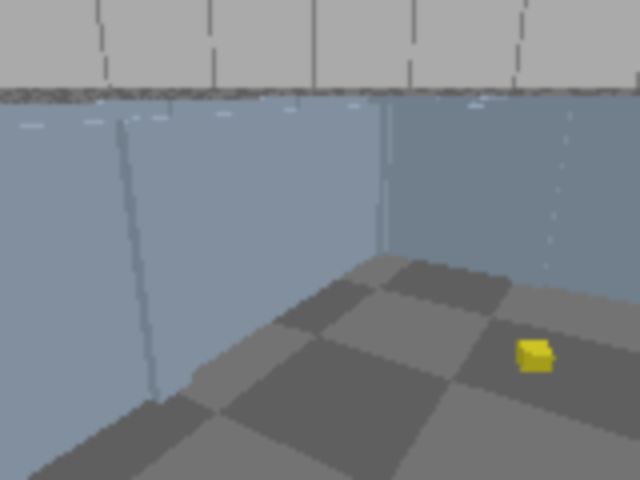puck: (515, 339, 555, 374)
